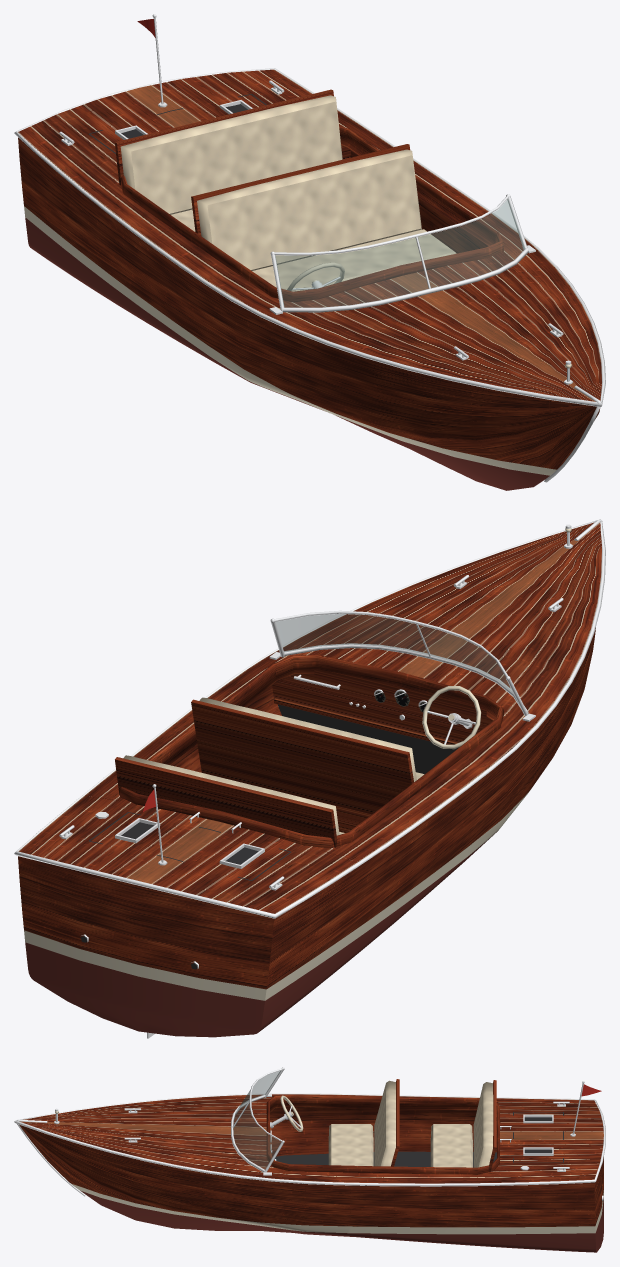
File: Lake_Runabout_LOD.glb
3 renders of one model, top to bottom at view 1: azimuth 30°, elevation 25°; view 2: azimuth 150°, elevation 25°; view 3: azimuth 270°, elevation 25°, orthographic. The views are drawn at different scales.
Visible parts, largest first — view 1: Runabout_LOD; view 2: Runabout_LOD, WheelRim_LOD; view 3: Runabout_LOD, WheelRim_LOD.
Boxes of the visible parts, x1,y1,x2,y2 form: Runabout_LOD: [14, 14, 605, 490]; Runabout_LOD: [14, 519, 605, 1038]; WheelRim_LOD: [422, 686, 481, 749]; Runabout_LOD: [14, 1067, 605, 1252]; WheelRim_LOD: [280, 1095, 303, 1131].
Bounding box in the file's own units: 2.21 × 1.82 × 6.15.
Materials: 11 (4 with a texture image).
